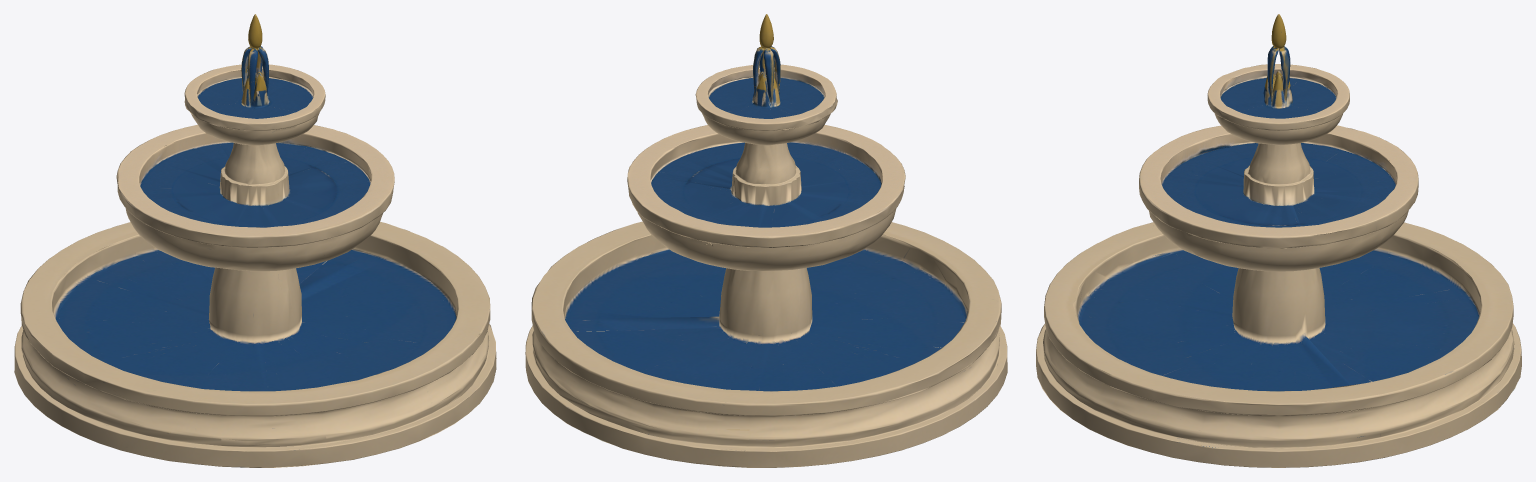
Rendered from fountain.raw.glb.
3 views of the same model, side by side, from view 1: azimuth 30°, elevation 25°; view 2: azimuth 150°, elevation 25°; view 3: azimuth 270°, elevation 25° (orthographic).
Size of the model in its own units: 0.9487 by 0.7646 by 0.9561.
Materials: 1 (1 with a texture image).
